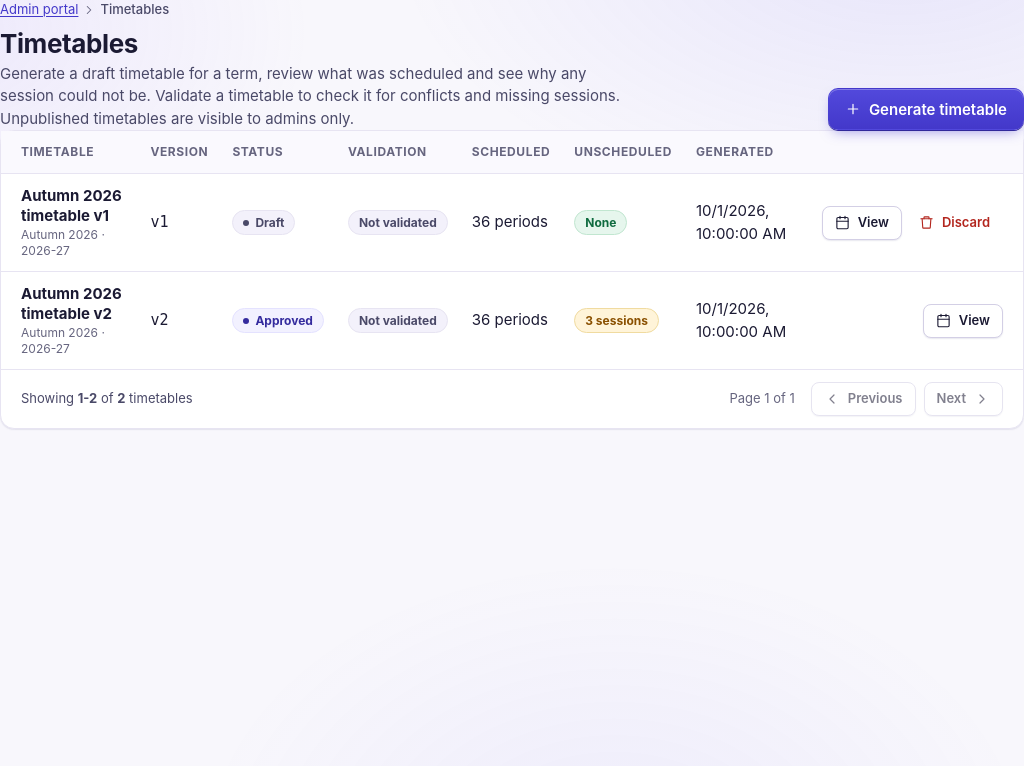
Test case: Timetable detail › switches batch and shows only that batch
Click the button with aria-label "View Autumn 2026 timetable v1": point(862, 223) x1=822 y1=206 x2=902 y2=240
(page scrolled)
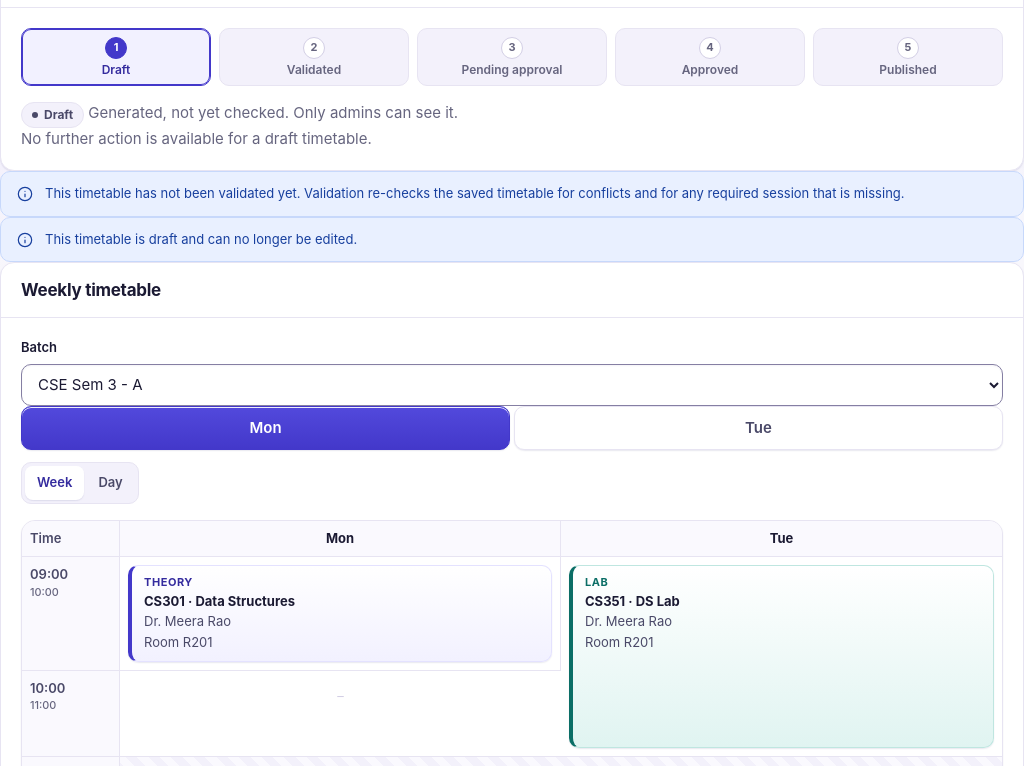
Select "CSE Sem 3 - B" in the dropdown labelled "Batch": point(512, 385) x1=21 y1=364 x2=1003 y2=406
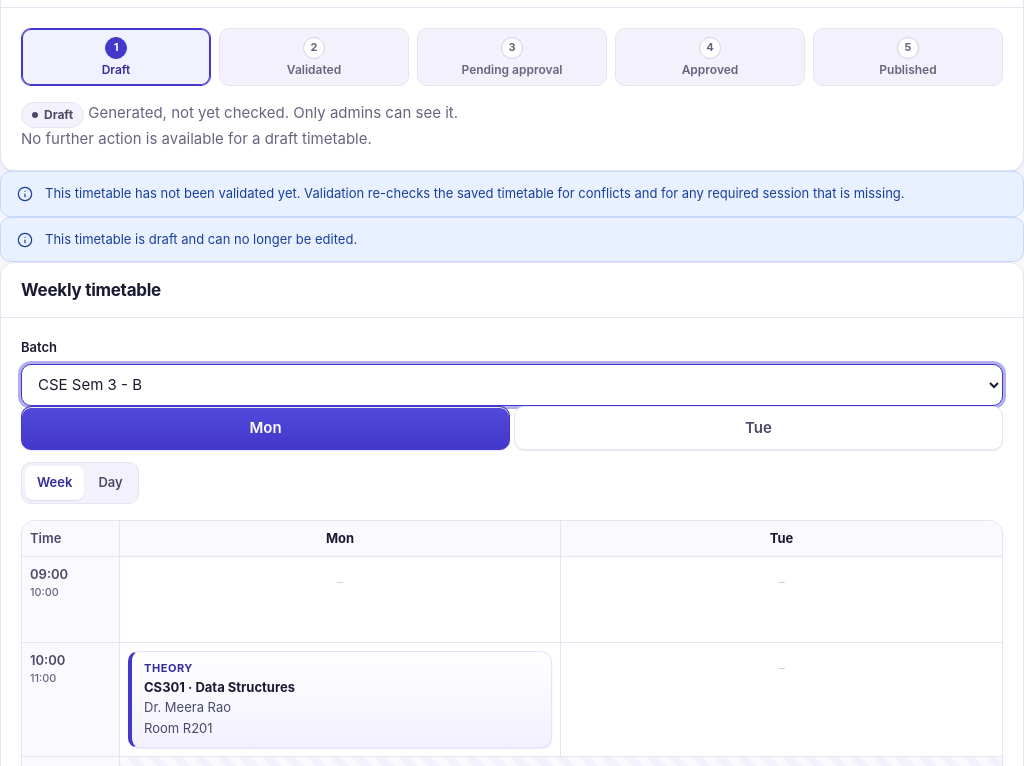
Expected: the text "CS301 · Data Structures" is shown, x1=144 y1=679 x2=295 y2=695
Expected: the text "CS351" is gone
